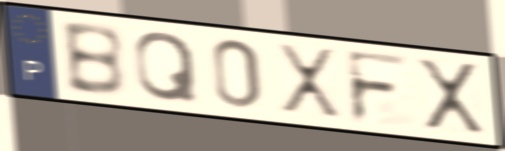0: (208, 36, 266, 113)
B: (57, 21, 130, 100)
F: (343, 47, 413, 128)
Q: (132, 29, 201, 105)
X: (413, 55, 489, 137), (274, 40, 345, 124)
